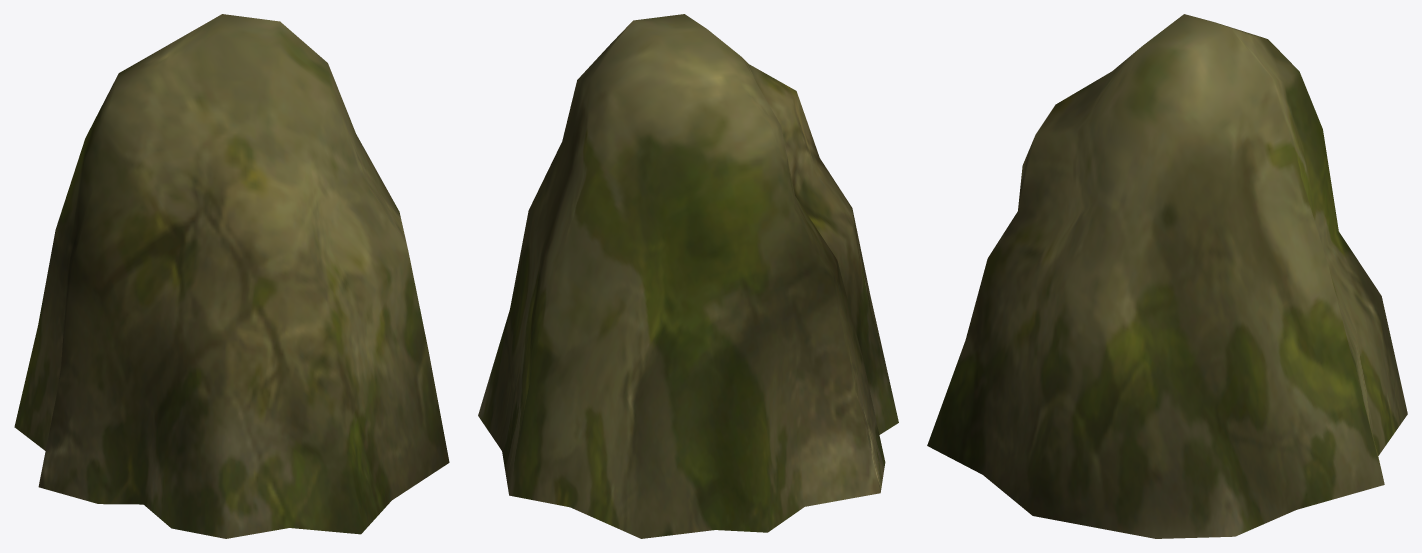
File: mesh_quingming_rock01.FBX
3 renders of one model, left to right at view 1: azimuth 30°, elevation 25°; view 2: azimuth 150°, elevation 25°; view 3: azimuth 270°, elevation 25°, orthographic. The views are drawn at different scales.
Visible parts, largest first — view 1: mesh_quingming_rock01; view 2: mesh_quingming_rock01; view 3: mesh_quingming_rock01.
Boxes of the visible parts, box(x1,y1,x2,y2) form: mesh_quingming_rock01: box(14, 14, 449, 538); mesh_quingming_rock01: box(478, 14, 898, 538); mesh_quingming_rock01: box(927, 14, 1407, 538).
Size of the model in its own units: 4.73 by 4.89 by 5.05.
